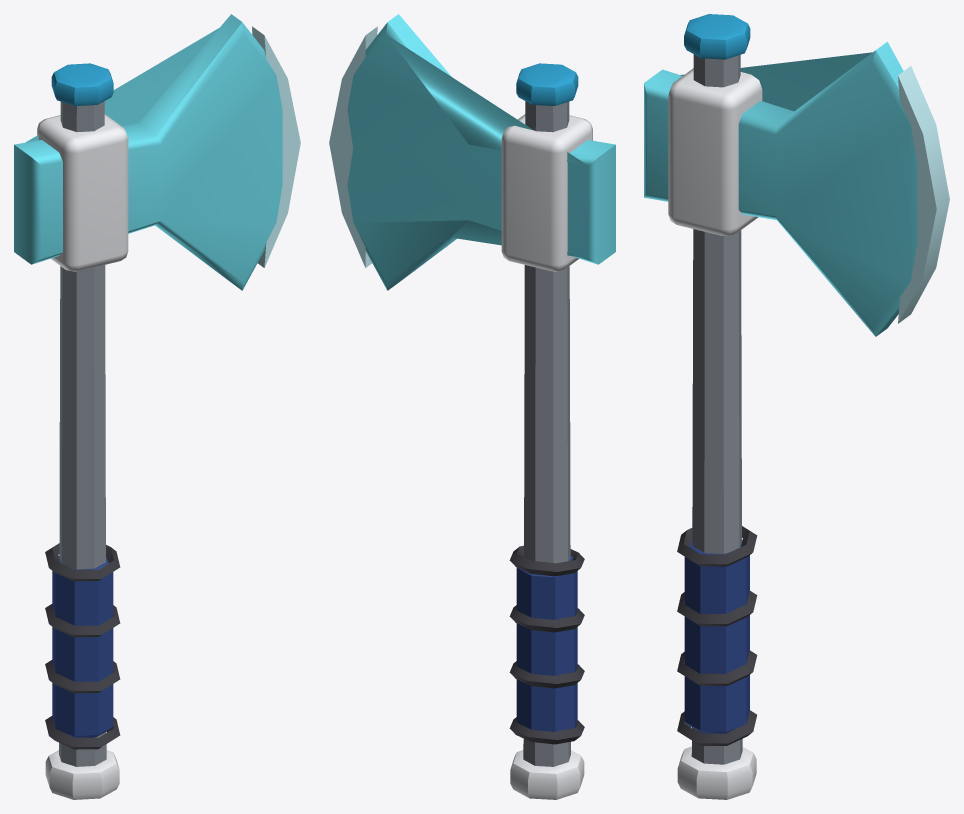
File: DiamondAxe.fbx
The picture shows the model from 3 angles, left to right: view 1: azimuth 30°, elevation 25°; view 2: azimuth 150°, elevation 25°; view 3: azimuth 330°, elevation 25°; orthographic projection. The views are drawn at different scales.
Parts seen in each view (by area): view 1: DiamondAxe; view 2: DiamondAxe; view 3: DiamondAxe.
Part boxes in pixels (<box>): DiamondAxe: <box>14,14,300,799</box>; DiamondAxe: <box>329,14,615,799</box>; DiamondAxe: <box>644,14,949,799</box>.
Bounding box in the file's own units: 1.27 × 3.27 × 0.3129.
Materials: 1 (1 with a texture image).
